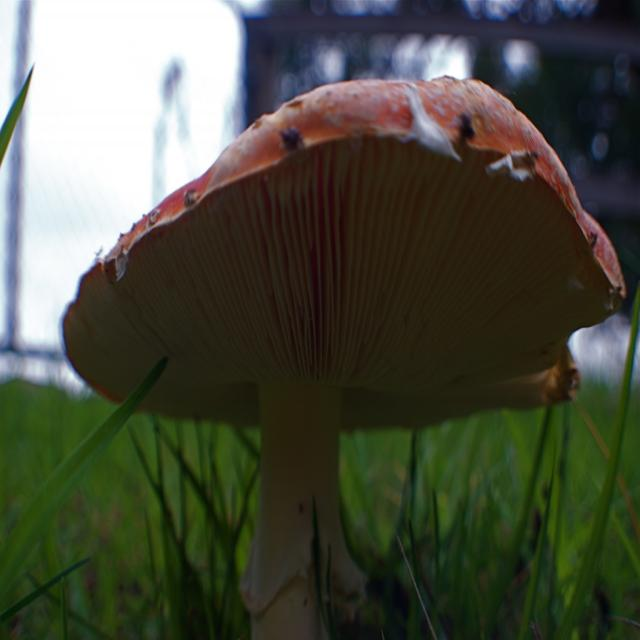mushroom: (61, 78, 628, 640)
